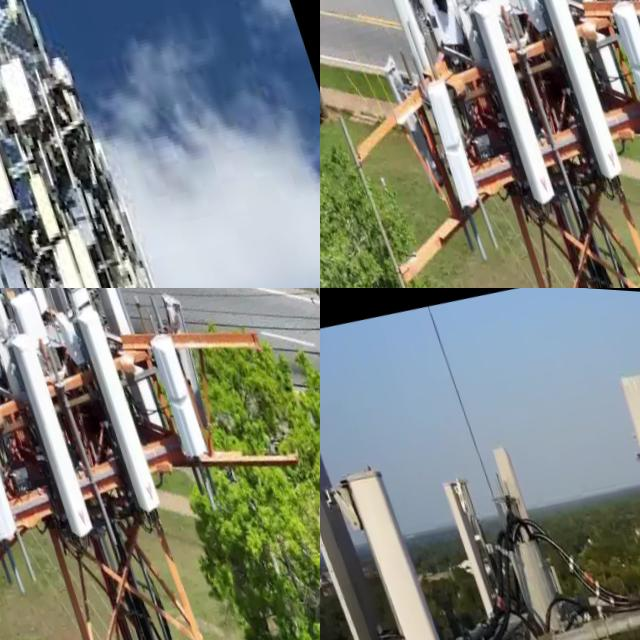GSM Antenna: (427, 463, 546, 640), (2, 322, 99, 539), (323, 456, 433, 640), (464, 0, 561, 205), (72, 301, 164, 511), (533, 0, 625, 178), (479, 428, 561, 623), (320, 465, 394, 640), (140, 320, 209, 460), (414, 68, 481, 204), (372, 45, 434, 179), (56, 215, 125, 288), (376, 0, 437, 82), (601, 0, 640, 126), (39, 223, 111, 288), (0, 36, 44, 134), (17, 162, 67, 247), (77, 288, 133, 344), (0, 87, 20, 220), (0, 400, 18, 537), (23, 288, 78, 316)
